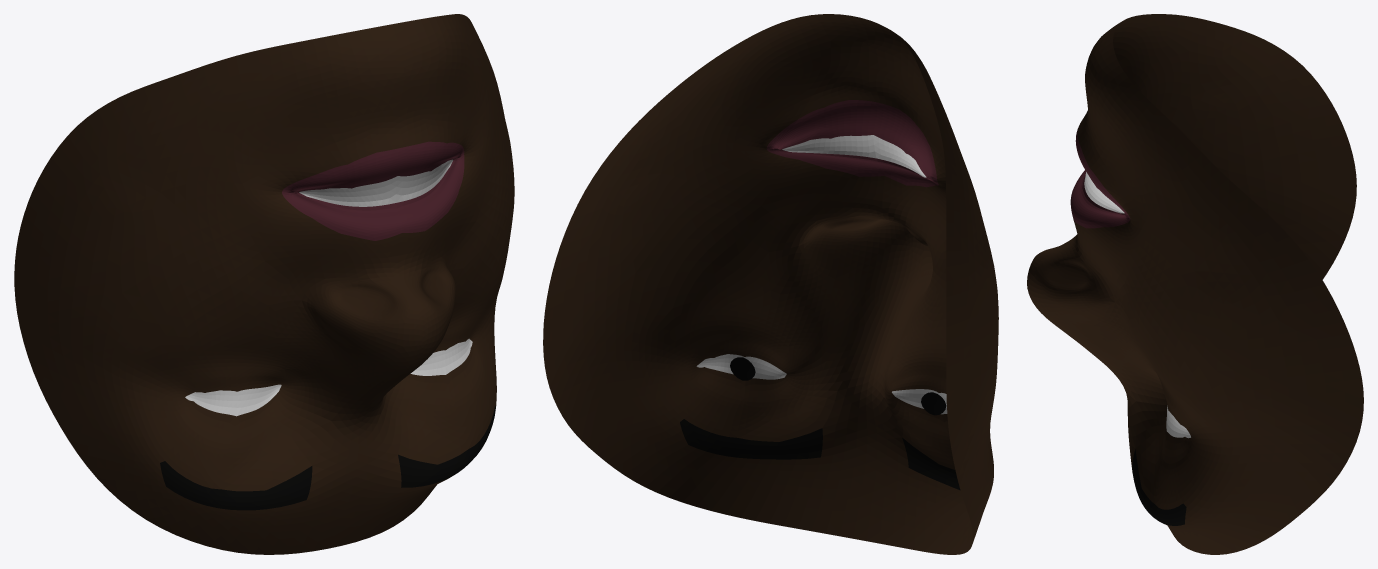
The model's file is VID-20250515-WA0007_f_00653.obj.
The picture shows the model from 3 angles, left to right: view 1: azimuth 30°, elevation 25°; view 2: azimuth 150°, elevation 25°; view 3: azimuth 270°, elevation 25°; orthographic projection. The views are drawn at different scales.
Visible parts, largest first — view 1: face_mesh_subdivided; view 2: face_mesh_subdivided; view 3: face_mesh_subdivided.
Part boxes in pixels (x1,y1,x2,y2): face_mesh_subdivided: (14, 14, 514, 554); face_mesh_subdivided: (543, 14, 998, 554); face_mesh_subdivided: (1027, 14, 1363, 554).
Size of the model in its own units: 0.465 by 0.5476 by 0.345.
